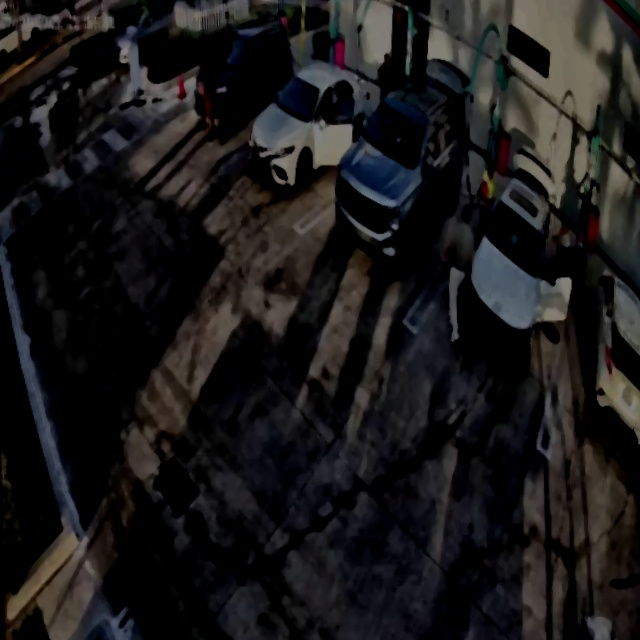Car: (333, 68, 471, 272), (461, 169, 574, 361), (248, 58, 370, 186)
